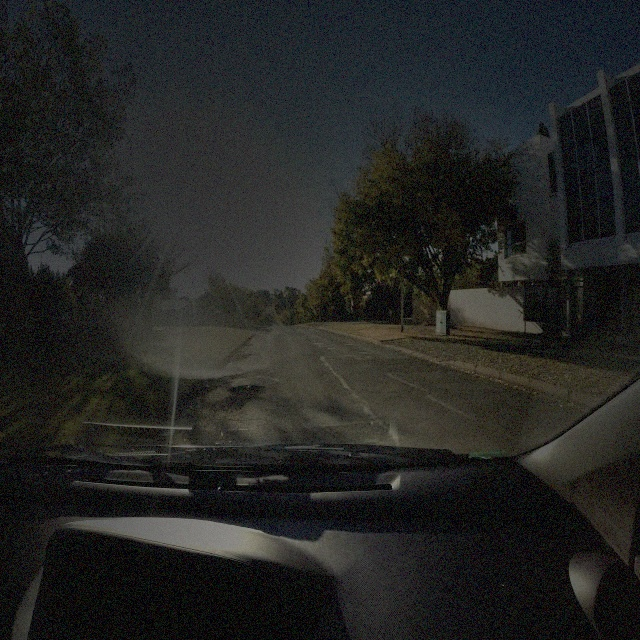pothole: (227, 386, 267, 399)
